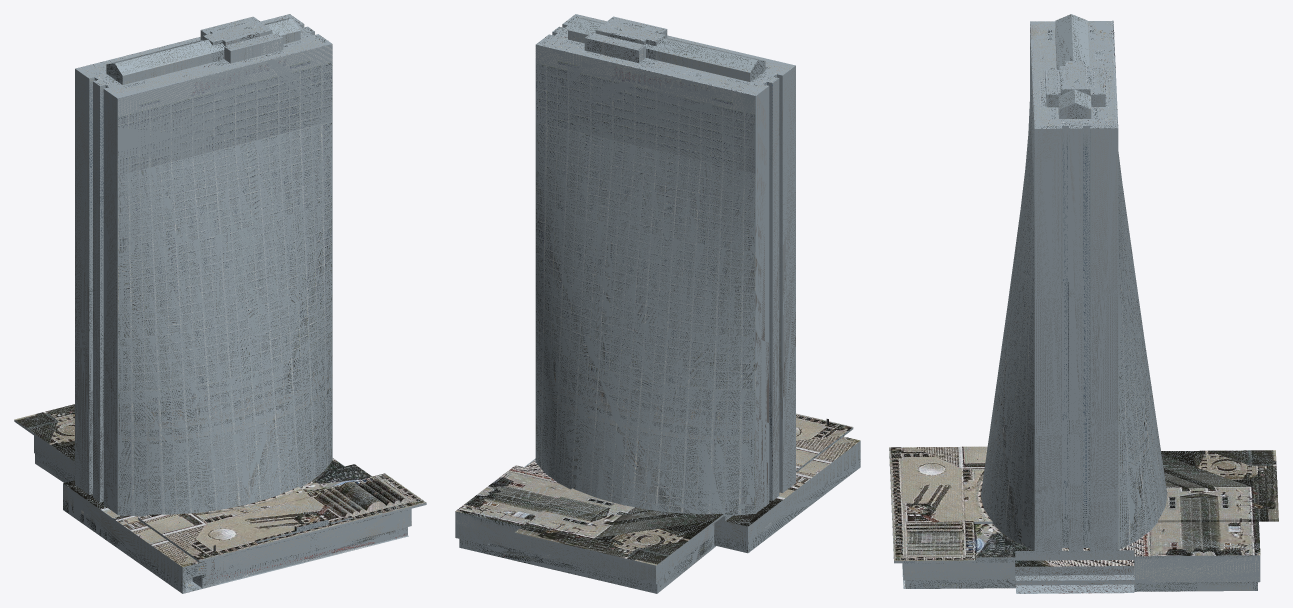
The model's file is marriott-building.fbx.
3 renders of one model, left to right at view 1: azimuth 30°, elevation 25°; view 2: azimuth 150°, elevation 25°; view 3: azimuth 270°, elevation 25°, orthographic.
Parts seen in each view (by area): view 1: Component_5_1; view 2: Component_5_1; view 3: Component_5_1.
Boxes of the visible parts, <box> form: Component_5_1: <box>14,14,426,593</box>; Component_5_1: <box>455,14,860,593</box>; Component_5_1: <box>889,14,1278,593</box>.
Bounding box in the file's own units: 3816 × 6961 × 5176.
